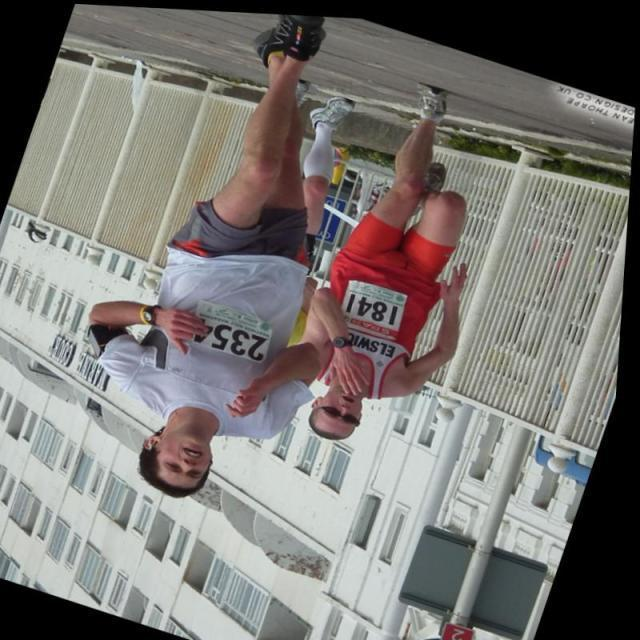dorsal: (181, 286, 288, 368), (325, 262, 424, 343)
